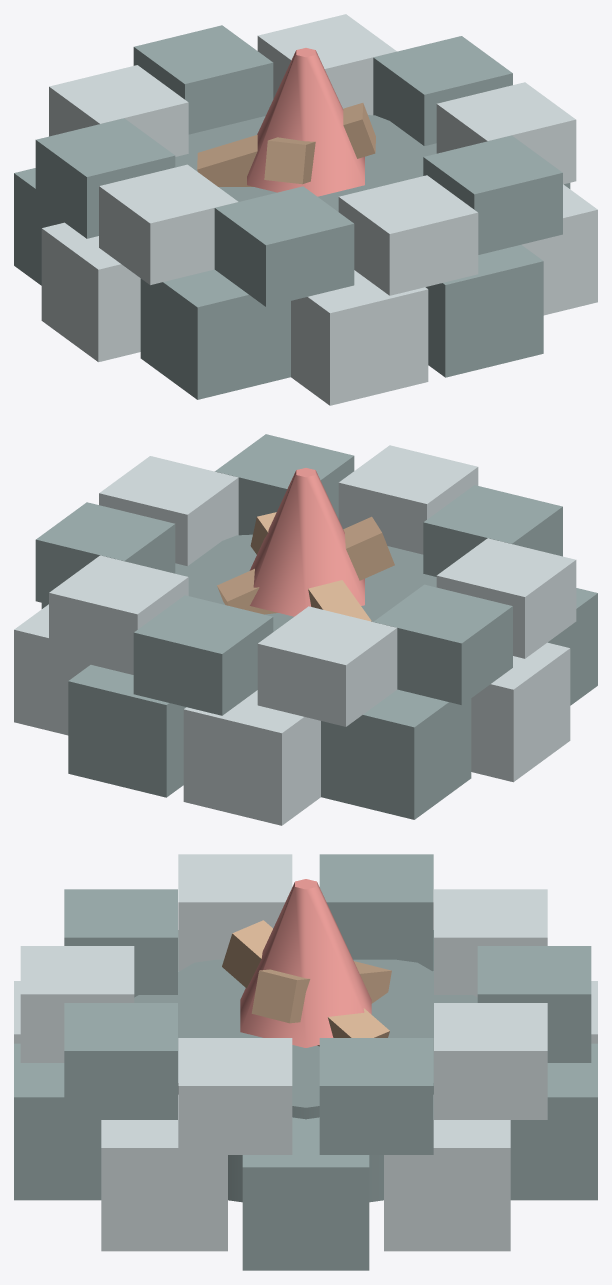
File: firePit.glb
3 renders of one model, top to bottom at view 1: azimuth 30°, elevation 25°; view 2: azimuth 150°, elevation 25°; view 3: azimuth 270°, elevation 25°, orthographic. The views are drawn at different scales.
Parts seen in each view (by area): view 1: firePit; view 2: firePit; view 3: firePit.
Boxes of the visible parts, x1,y1,x2,y2 form: firePit: (14,14,597,405); firePit: (14,434,597,825); firePit: (14,854,597,1270).
Size of the model in its own units: 0.48 by 0.225 by 0.4614.
